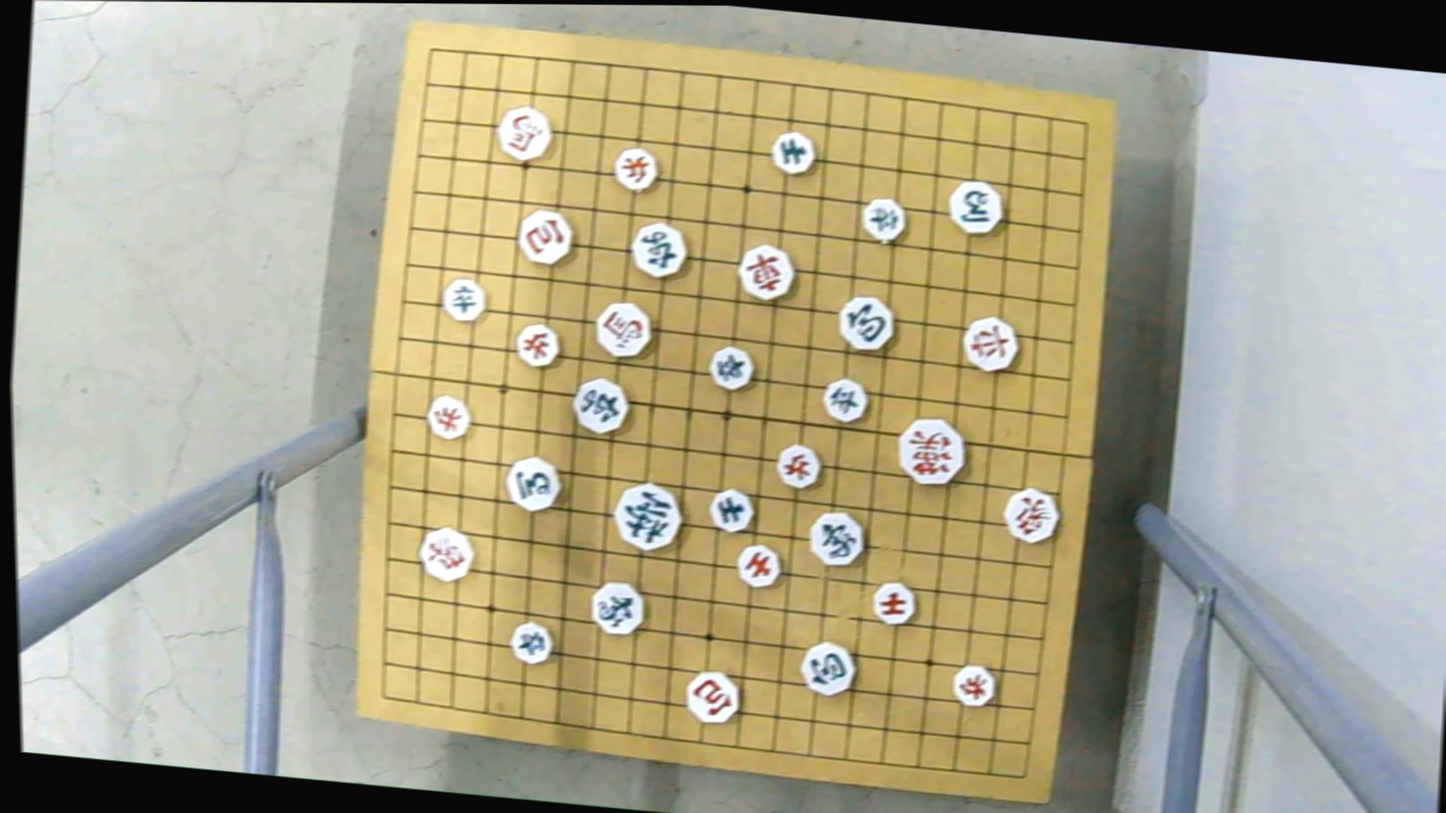cha_green: (627, 220, 691, 279), (570, 375, 631, 434)
cha_red: (959, 316, 1023, 371), (736, 245, 796, 298)
jol_green: (703, 344, 757, 391), (858, 196, 910, 241), (438, 276, 490, 319), (816, 377, 869, 419), (506, 621, 556, 663)
jol_red: (511, 321, 560, 368), (423, 394, 471, 441), (773, 443, 824, 487), (948, 662, 1000, 705), (611, 147, 660, 191)
ma_green: (502, 455, 563, 509), (944, 180, 1006, 233)
ma_red: (589, 299, 655, 361), (490, 105, 554, 160)
po_green: (798, 641, 859, 696), (834, 297, 894, 349)
po_red: (513, 207, 576, 263), (680, 668, 743, 723)
sa_green: (703, 487, 757, 533), (767, 129, 819, 172)
sa_red: (734, 544, 785, 587), (871, 580, 916, 624)
sang_green: (805, 513, 868, 567), (586, 580, 645, 636)
sang_red: (999, 486, 1064, 542), (415, 523, 477, 581)
wang_green: (610, 482, 685, 547)
wang_red: (895, 418, 969, 489)
